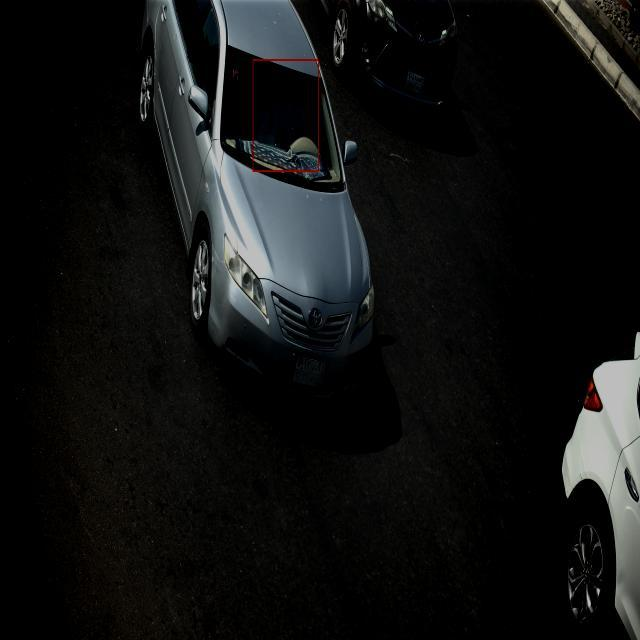windshield: (217, 39, 348, 198)
